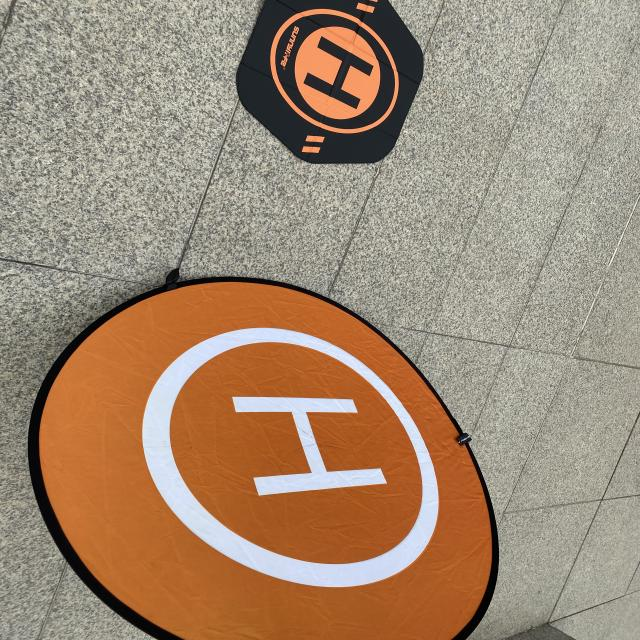helipad: (134, 319, 448, 596), (263, 2, 408, 136)
